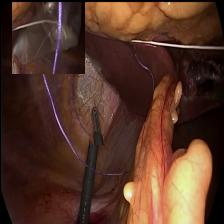Grasper: (88, 103, 102, 144)
Specimen Bag: (11, 0, 84, 73)
